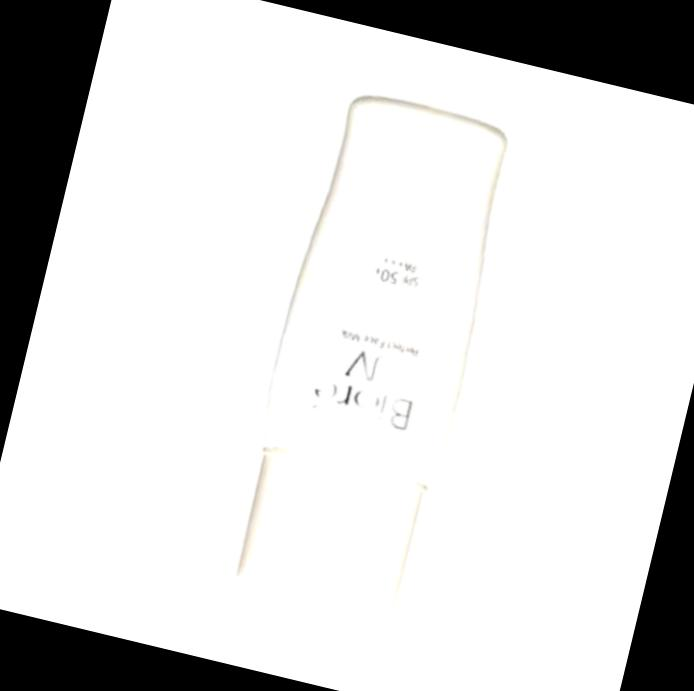cosmetic: (220, 84, 518, 622)
